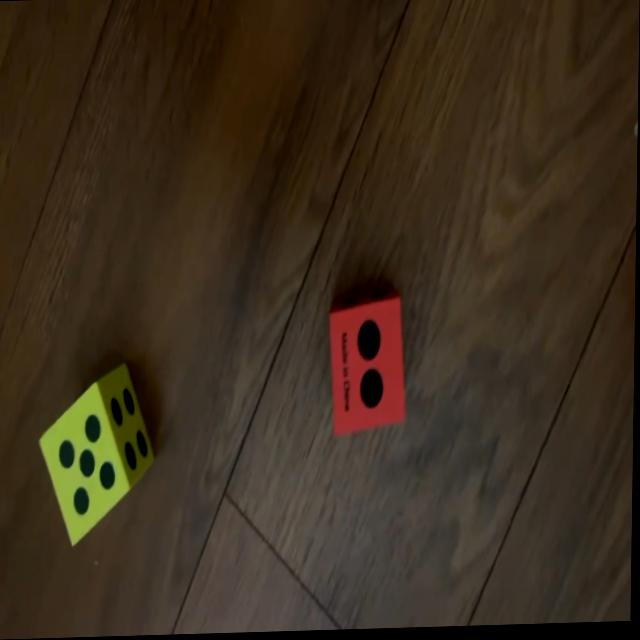cube: (328, 295, 409, 439)
